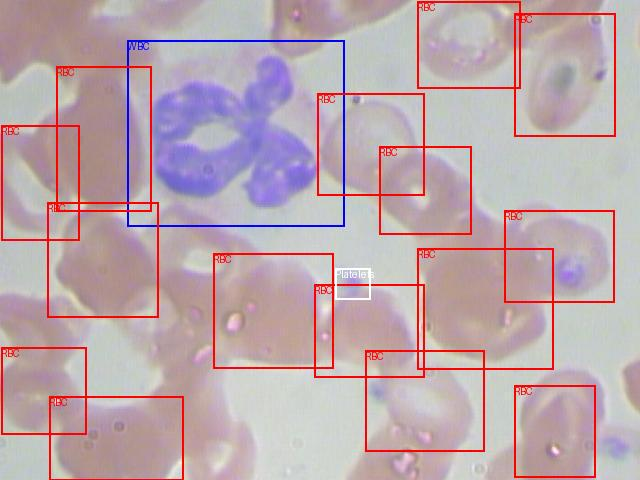Platelets: (335, 268, 370, 299)
RBC: (417, 248, 553, 369), (213, 253, 333, 368), (56, 66, 151, 211), (47, 202, 158, 317), (514, 13, 615, 136), (365, 350, 484, 451), (49, 396, 183, 480), (317, 93, 424, 195), (314, 284, 424, 377), (504, 210, 614, 302), (1, 125, 79, 240), (417, 1, 520, 88), (379, 146, 471, 234), (514, 385, 595, 477), (1, 347, 86, 434)
WBC: (127, 40, 344, 226)
